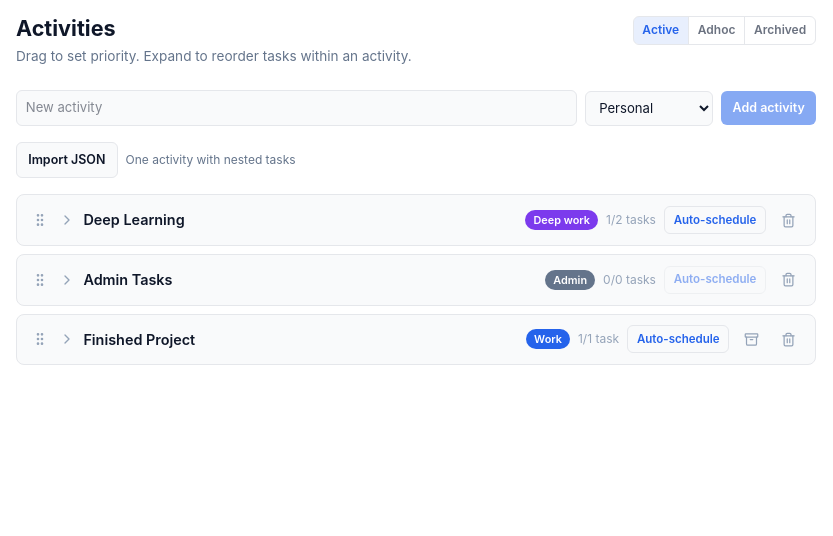
ActivitiesPage › expands an activity to show its tasks
expect the text "Lesson 1" is not shown: met
What coordinates should you click on to do the following:
click the text "Deep Learning"
I would click on:
 (134, 220)
Its box is [83, 211, 185, 228].
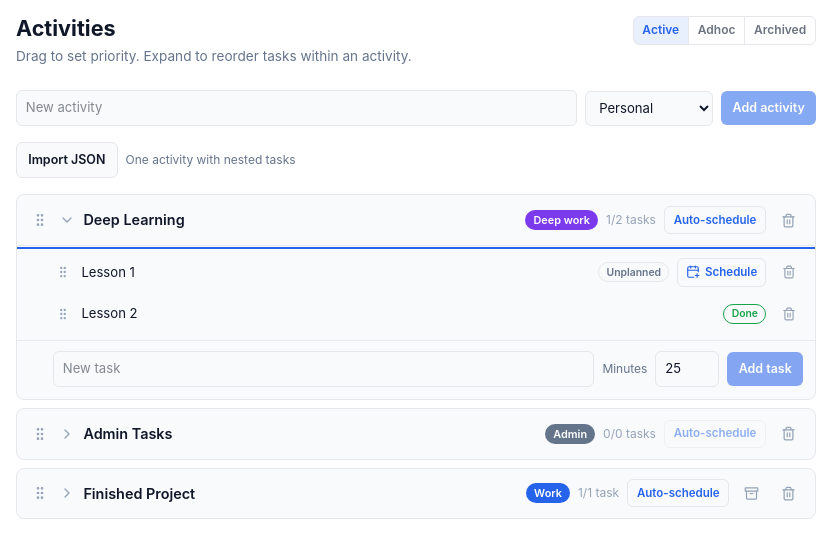
expect the button "Lesson 1" is shown: met, box [81, 262, 590, 282]
expect the button "Lesson 2" is shown: met, box [81, 304, 716, 324]
expect the text "Unplanned" is shown: met, box [598, 262, 669, 282]
